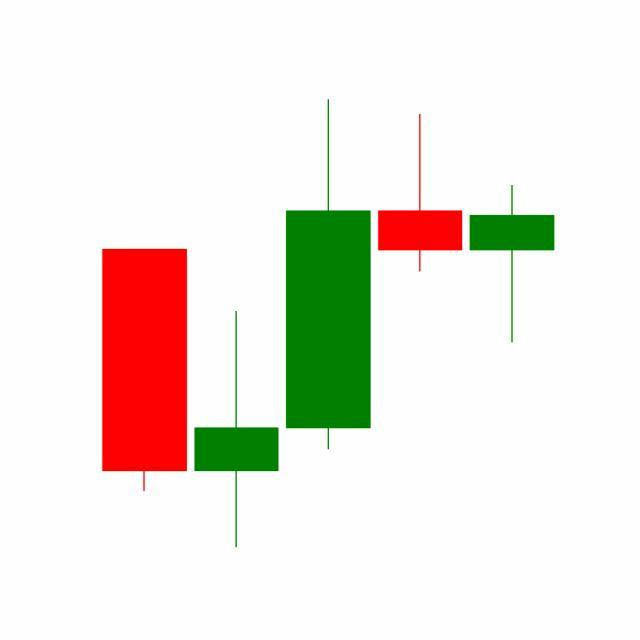Gravestone Doji: (374, 112, 468, 275)
